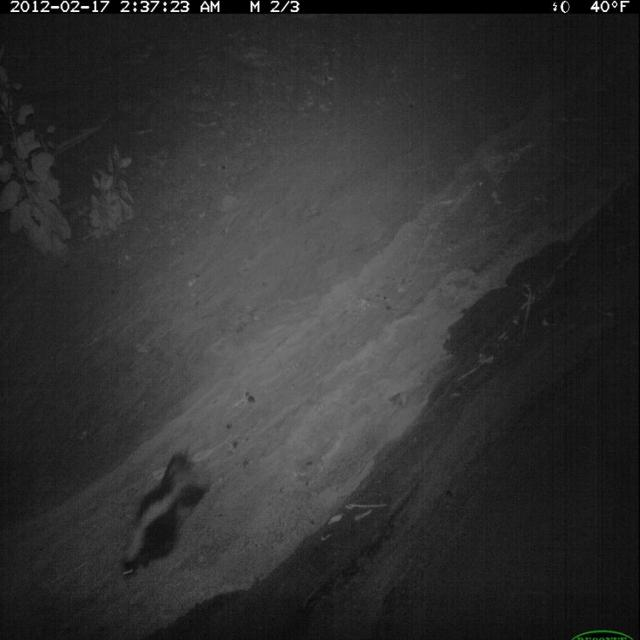skunk: (116, 448, 210, 584)
